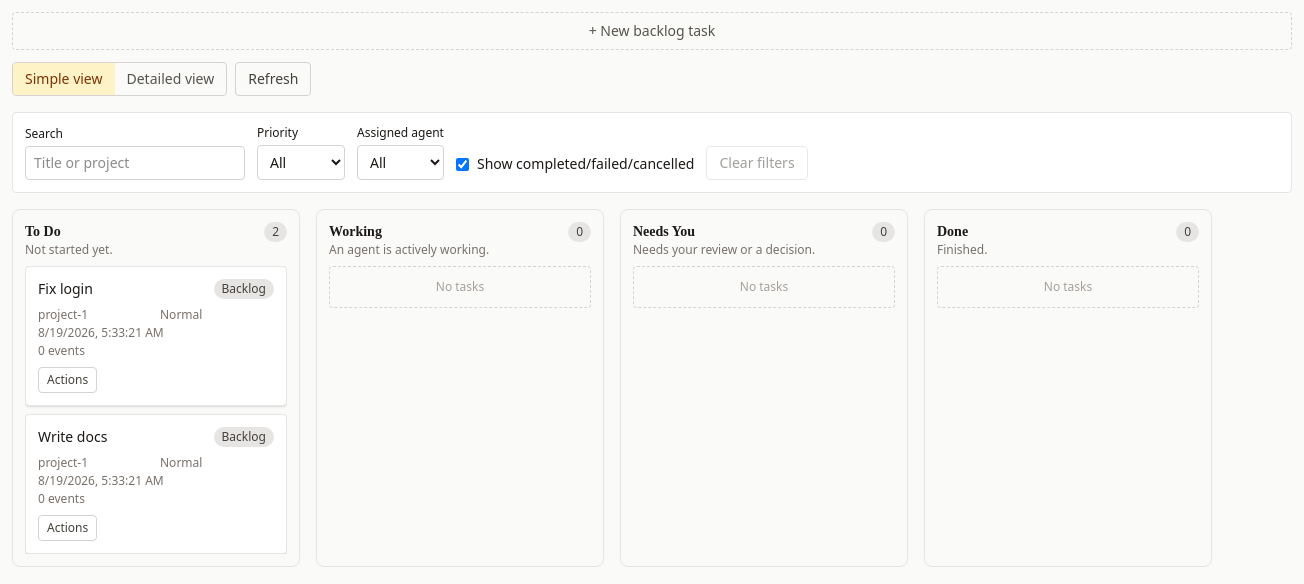
Test: KanbanBoard › filters hide non-matching cards, and Clear filters restores them
expect the button "Fix login" is shown: met, box [38,279,206,299]
expect the button "Write docs" is shown: met, box [38,427,206,447]
In the field labelled "Search": (135, 163) [25,146,245,180], type "login"
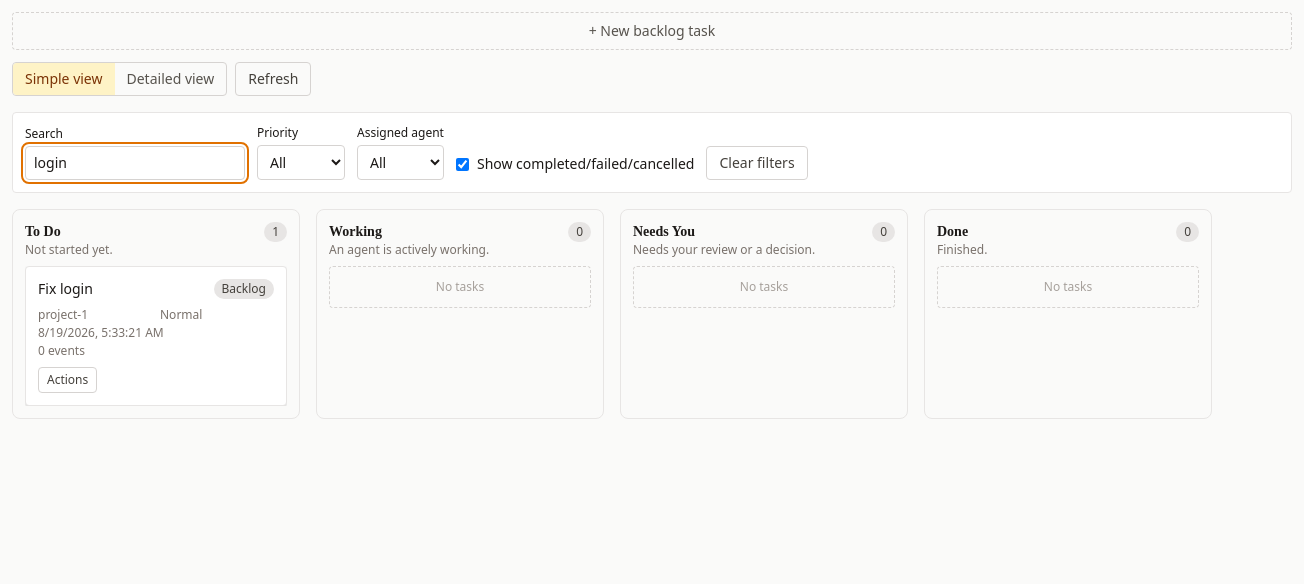
expect the button "Fix login" is shown: met, box [38,279,206,299]
expect the button "Write docs" is gone: met
Click the button "Clear filters": (757, 163) [706,146,808,180]
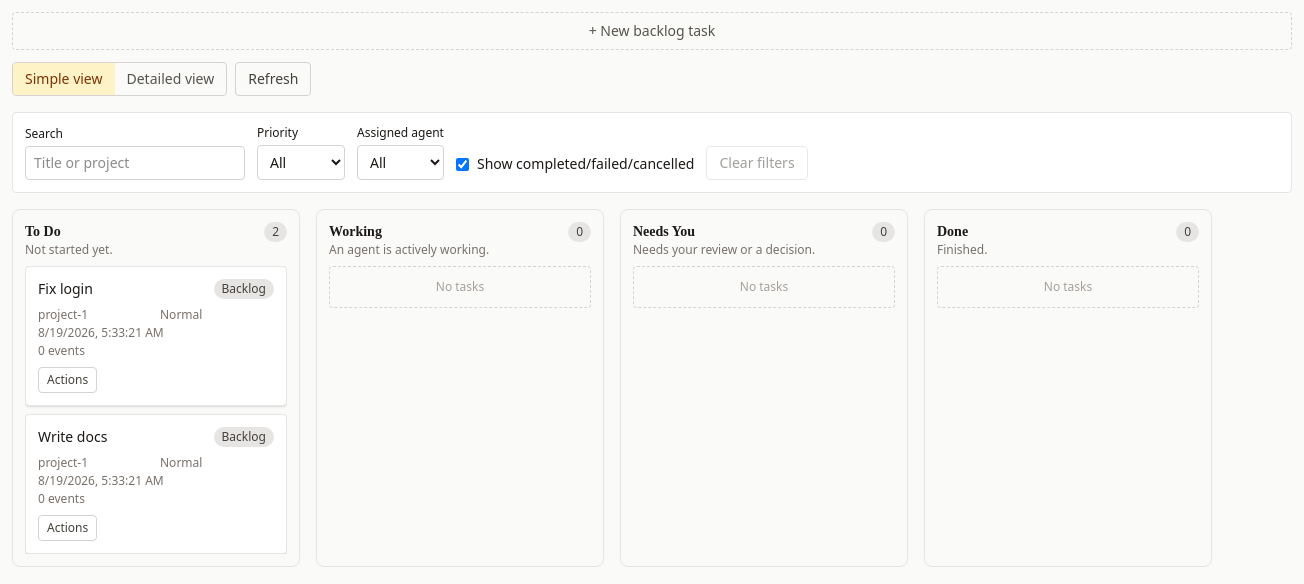
expect the button "Write docs" is shown: met, box [38,427,206,447]
